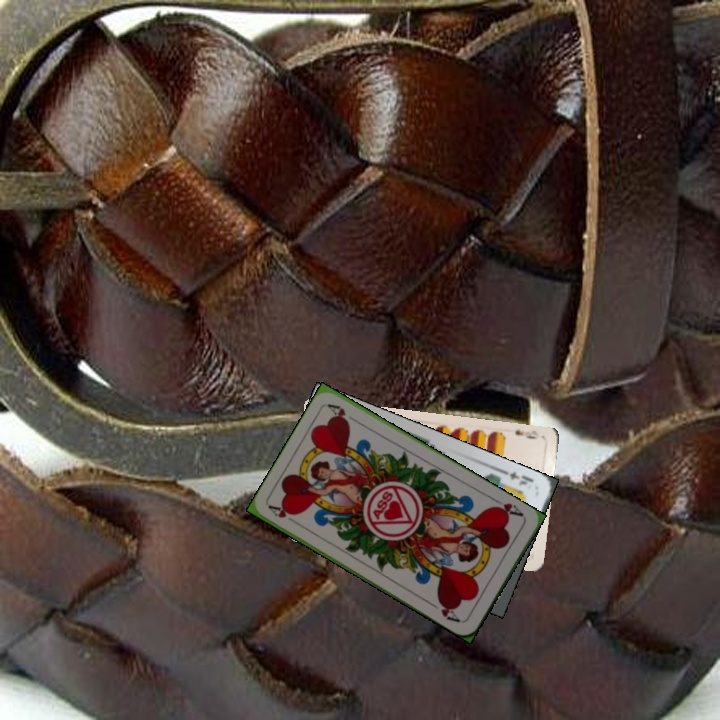E9: (511, 425, 541, 442)
EK: (500, 466, 536, 488)
HA: (487, 495, 526, 520), (265, 501, 297, 521)
